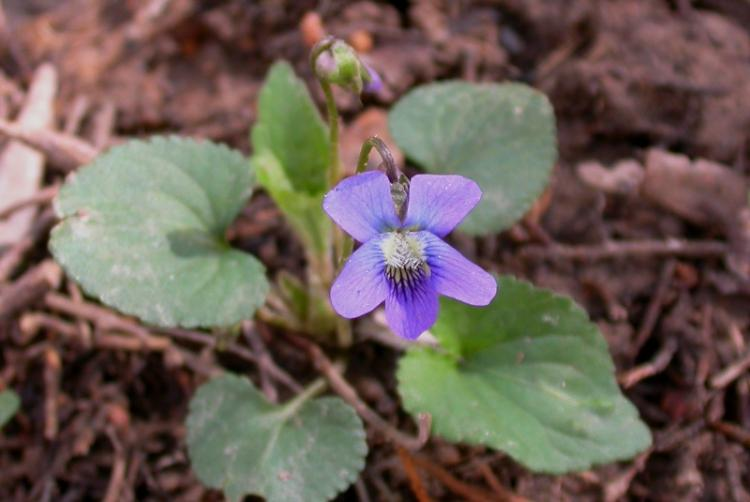violet: (316, 169, 496, 336)
